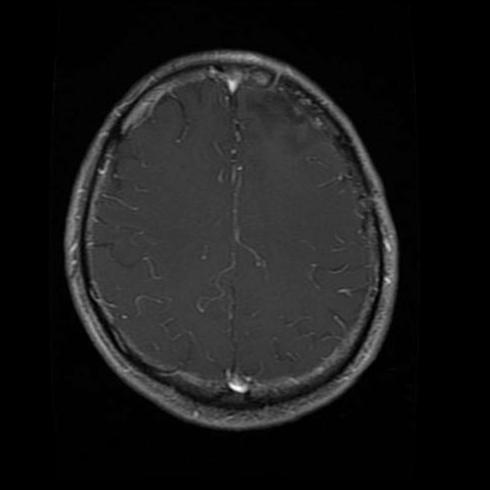Tumour-Glioma: (251, 86, 310, 159)
